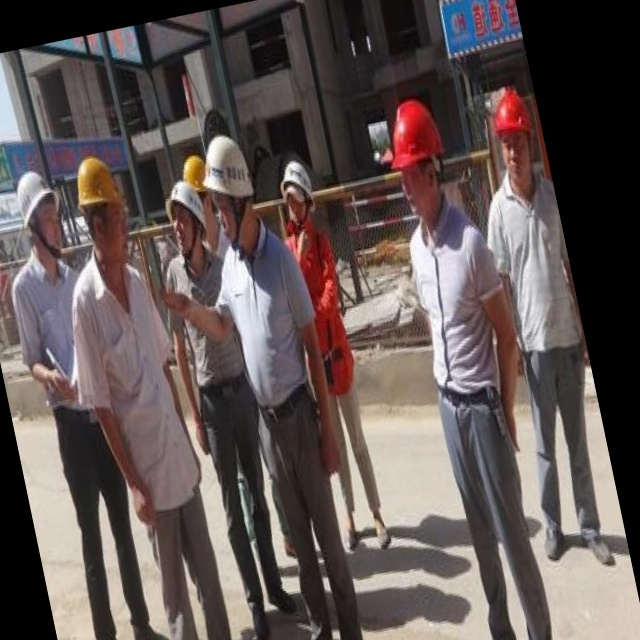Con_Casco: (379, 95, 457, 228), (193, 128, 266, 247)
Sin_Chaleco: (400, 209, 521, 408), (214, 229, 324, 415)
